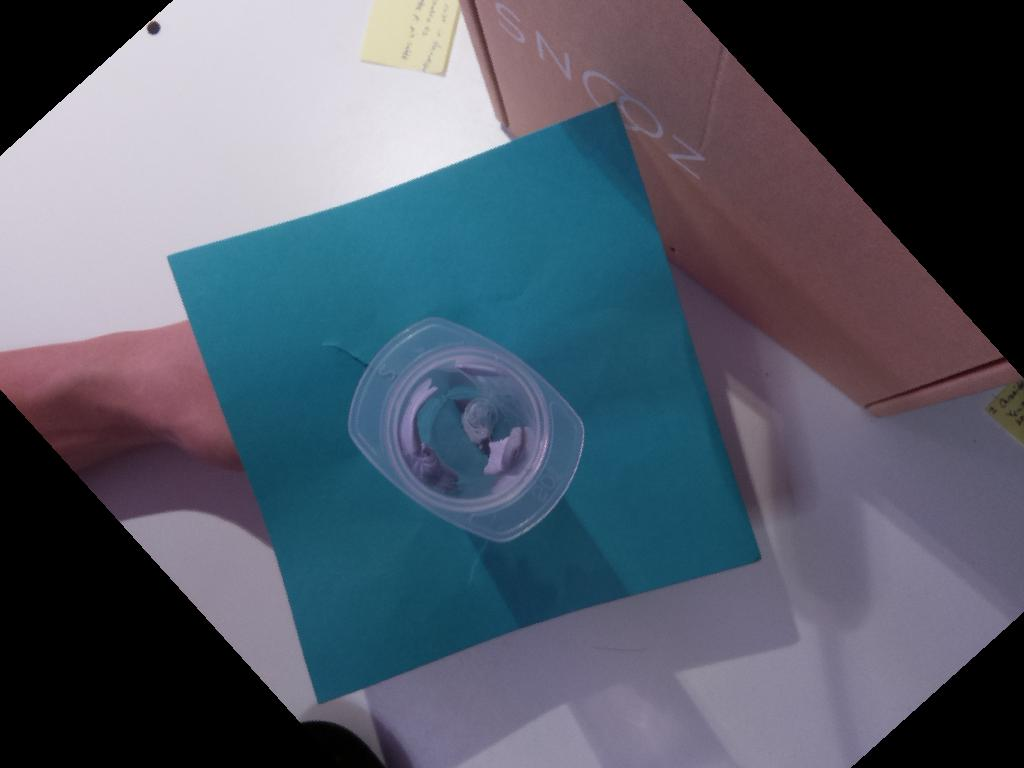dirty: (341, 314, 592, 545)
